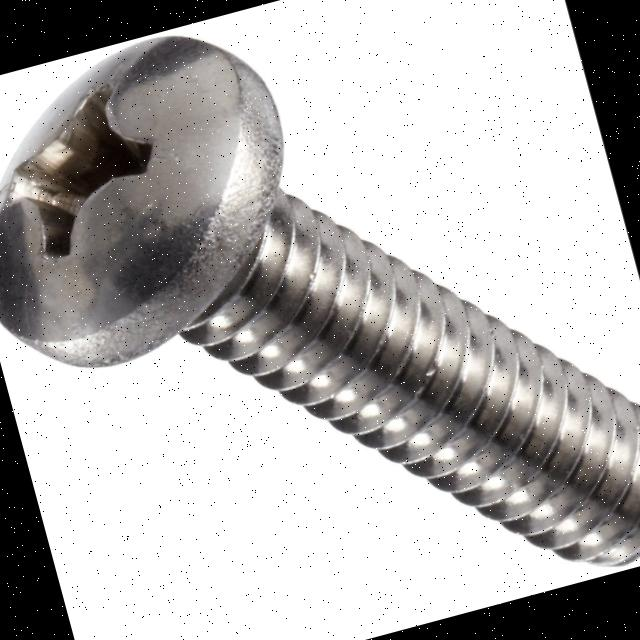Phillips: (0, 29, 263, 381)
